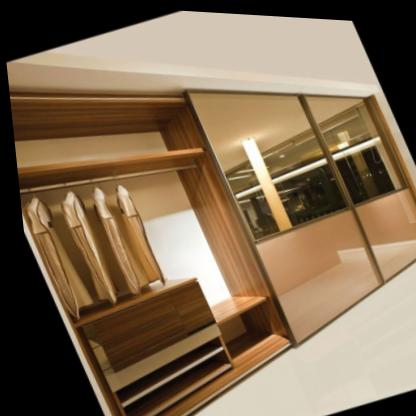Transparent Closet: (5, 62, 416, 416)
